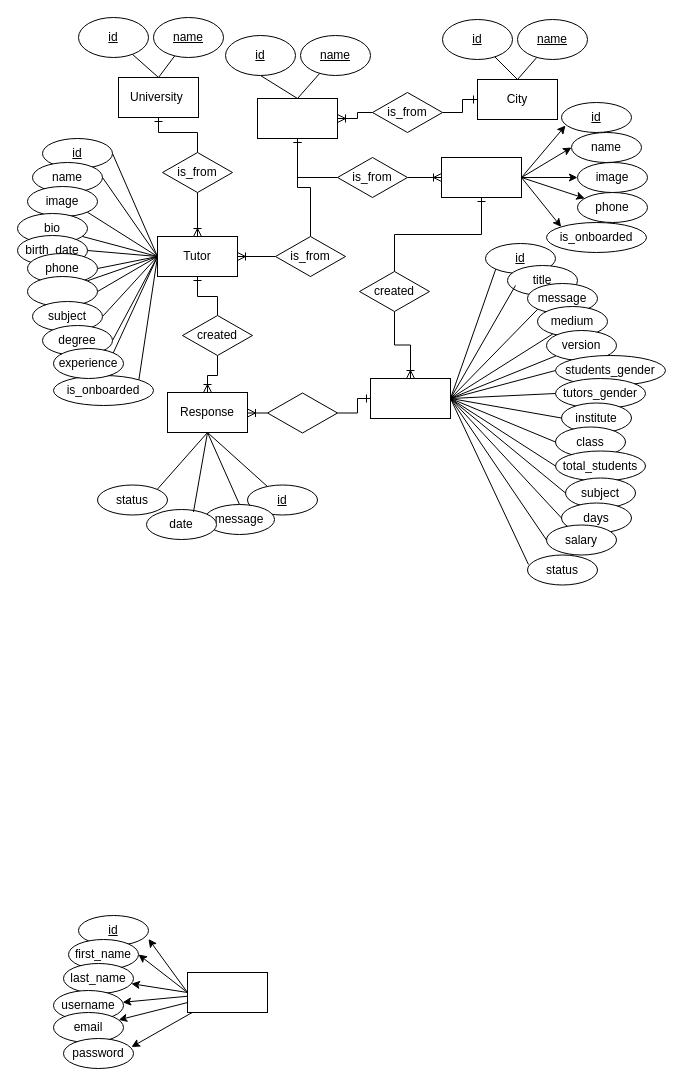
Some shapes in this 683 by 1086 pixel diagram are drawn without their labels. Each missing label, with the box of its shape:
Area: (256, 98, 338, 138)
department: (26, 276, 98, 306)
for: (266, 392, 338, 433)
Student: (440, 156, 522, 198)
TutorRequest: (370, 378, 450, 418)
User: (186, 972, 268, 1012)
